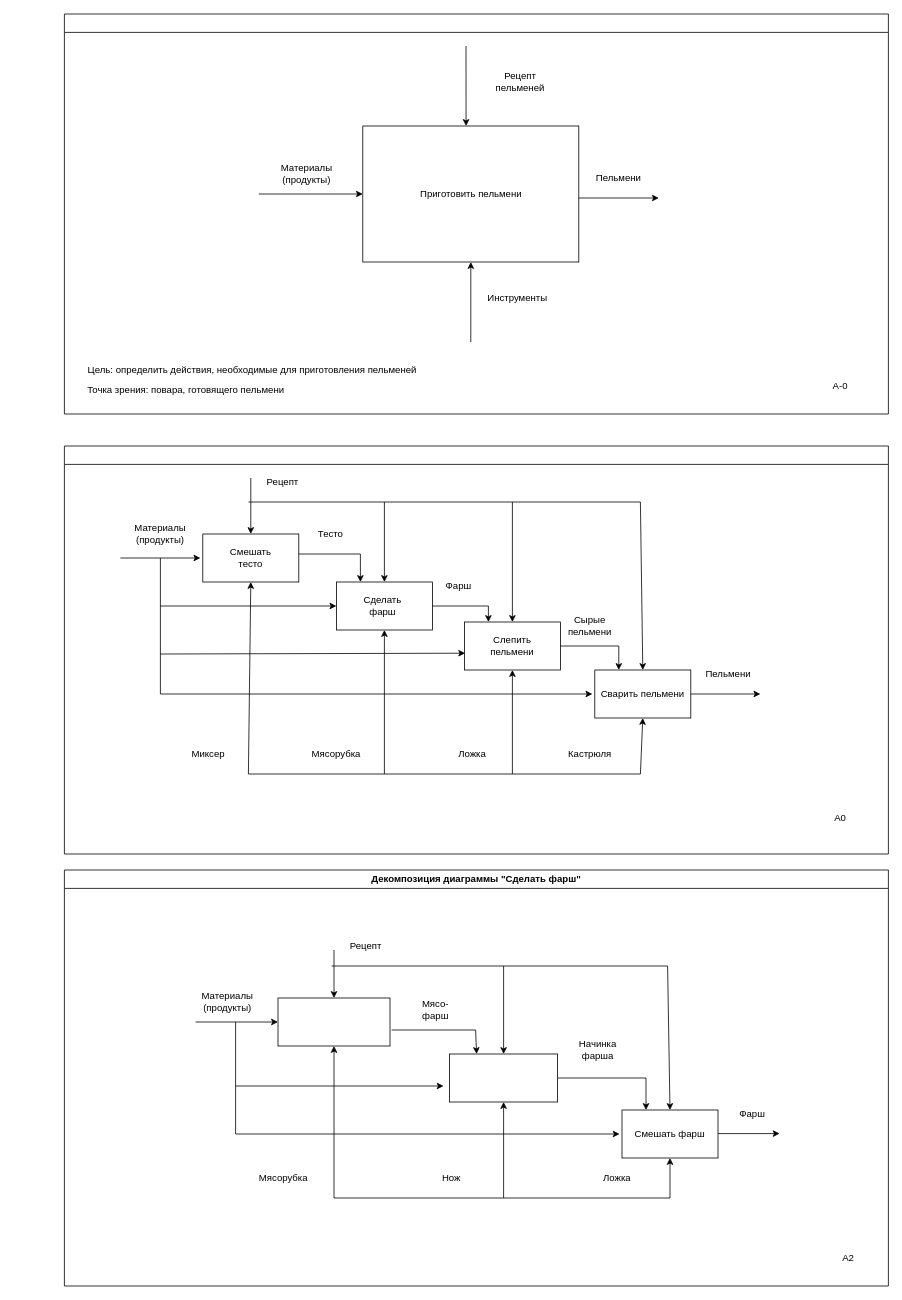
Image size: 902x1300. Some labels were removed from this diagram. The shapes that lost their labels are listed below. From the top down, each one's box as (x1, y1, x2, y2) in pixels, then its label:
(64, 13, 888, 414): Контекстная диаграмма "Пельмени"
(64, 445, 888, 854): Декомпозиция контекстной диаграммы "Пеьмени"
(277, 997, 390, 1046): Порубить мясо
(449, 1053, 558, 1102): Порезать хлеб и лук
